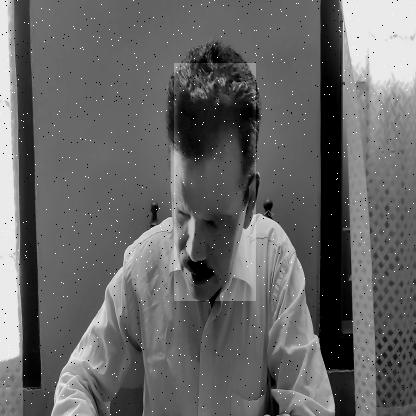Distracted: (174, 63, 256, 301)
